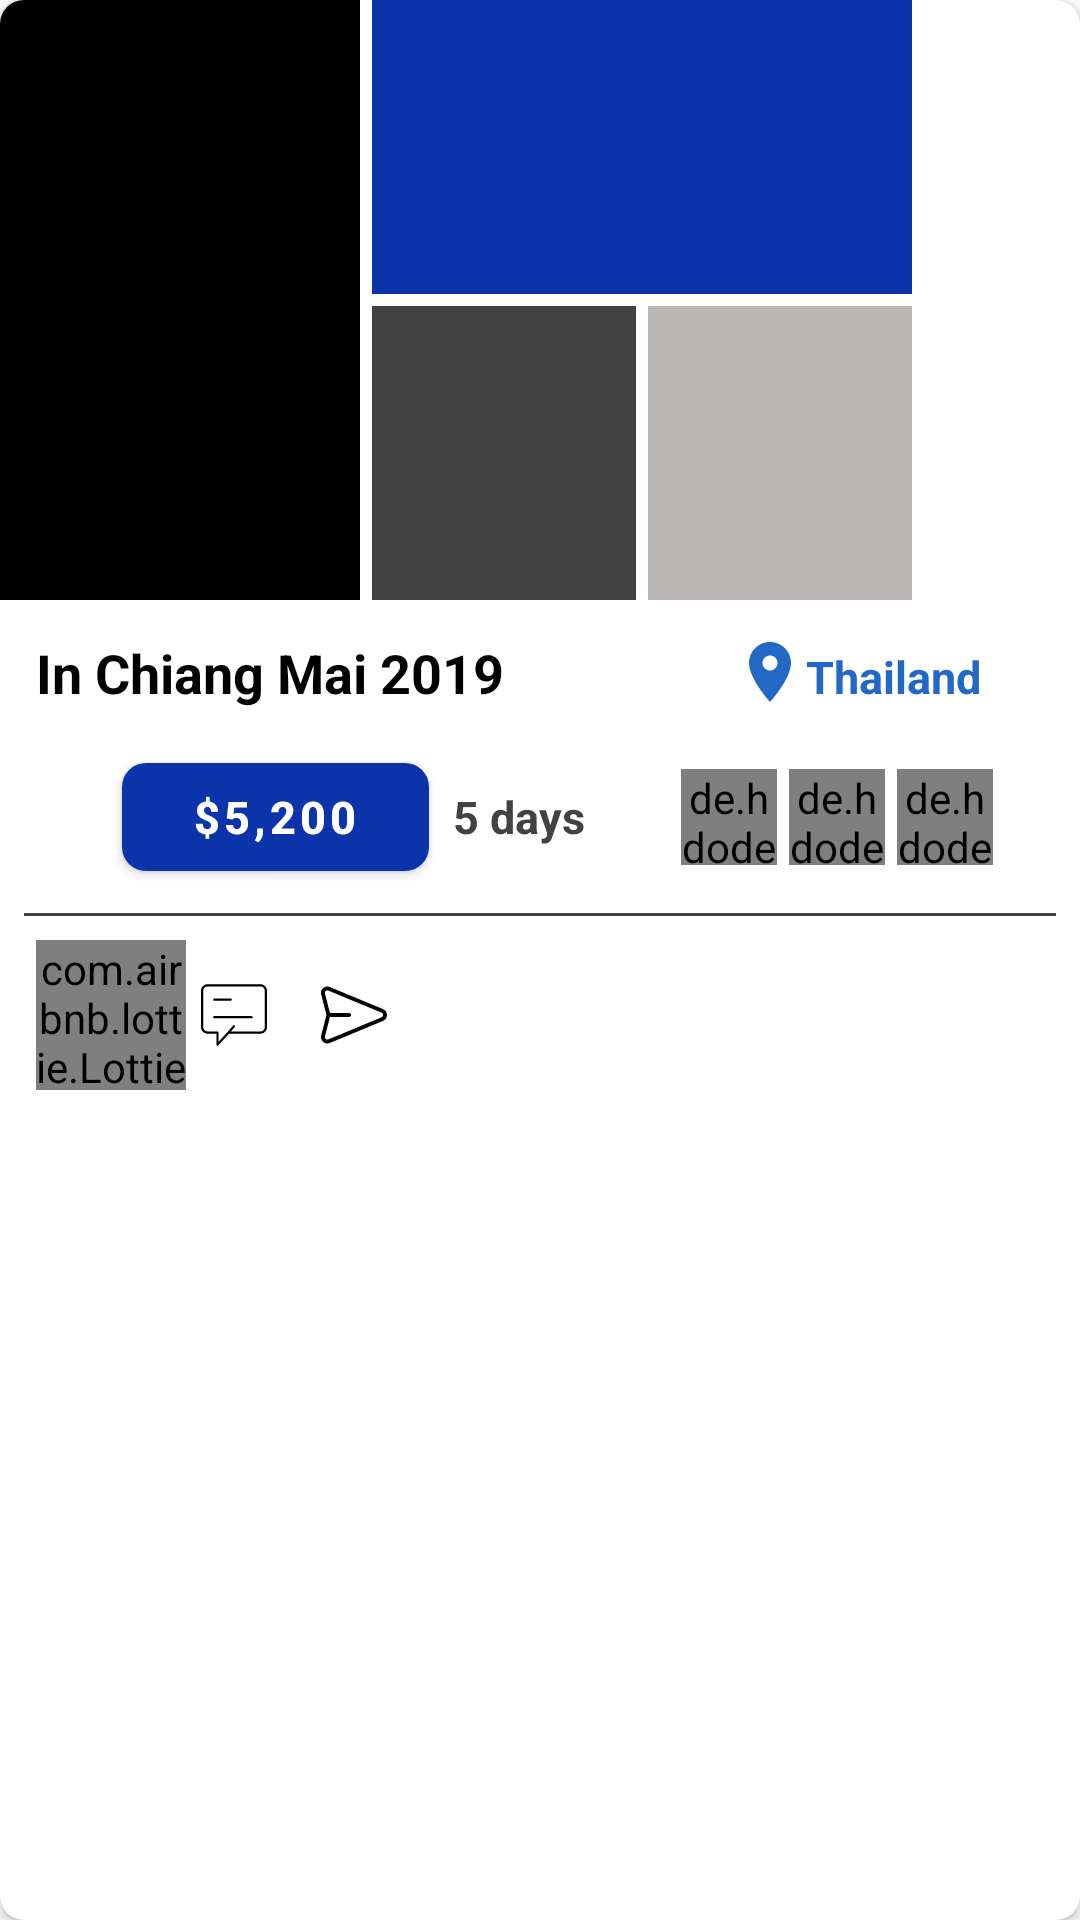

Where to tap for icons on this 1080*1920 app screen, as [x,y]:
comment: [234,1015]
location on: [770,672]
send: [354,1015]
